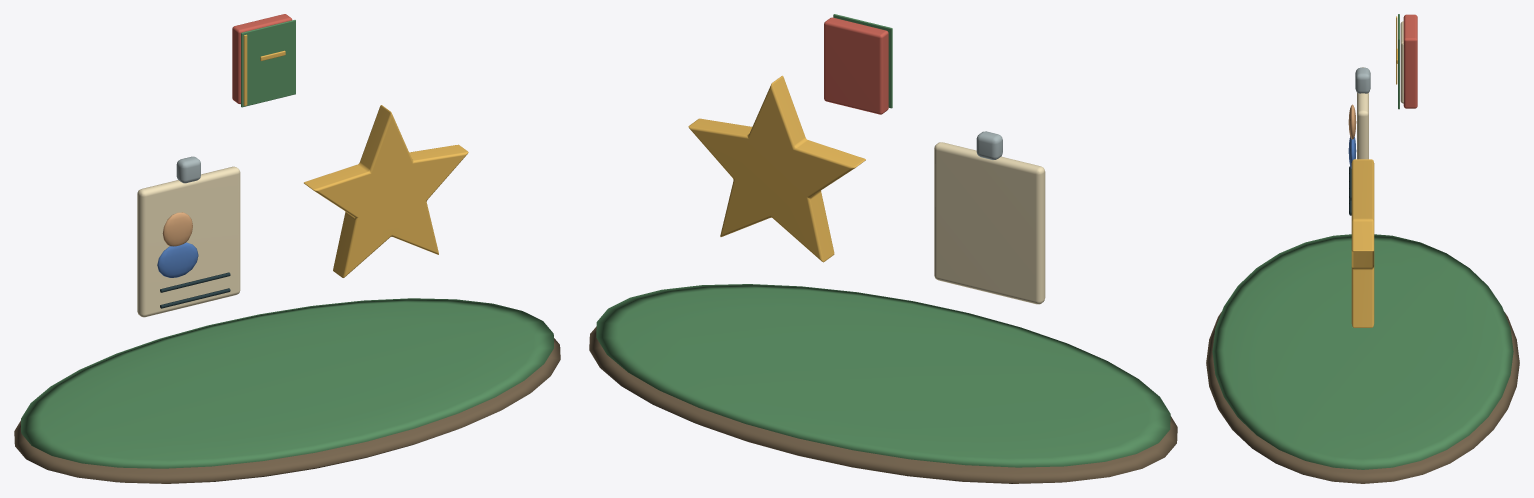
File: complete-third-host-idea.glb
The picture shows the model from 3 angles, left to right: view 1: azimuth 30°, elevation 25°; view 2: azimuth 150°, elevation 25°; view 3: azimuth 270°, elevation 25°; orthographic projection. The views are drawn at different scales.
Visible parts, largest first — view 1: complete-third-host-idea_surface_01, complete-third-host-idea_surface_07, complete-third-host-idea_surface_02, complete-third-host-idea_surface_00, complete-third-host-idea_surface_08, complete-third-host-idea_surface_05, complete-third-host-idea_surface_04, complete-third-host-idea_surface_06, complete-third-host-idea_surface_03; view 2: complete-third-host-idea_surface_01, complete-third-host-idea_surface_02, complete-third-host-idea_surface_07, complete-third-host-idea_surface_00, complete-third-host-idea_surface_08, complete-third-host-idea_surface_03; view 3: complete-third-host-idea_surface_01, complete-third-host-idea_surface_00, complete-third-host-idea_surface_07, complete-third-host-idea_surface_08, complete-third-host-idea_surface_02, complete-third-host-idea_surface_03.
Part boxes in pixels (left/top/right/bottom): complete-third-host-idea_surface_01: left=21, top=20, right=553, bottom=468; complete-third-host-idea_surface_07: left=243, top=34, right=468, bottom=277; complete-third-host-idea_surface_02: left=137, top=166, right=240, bottom=317; complete-third-host-idea_surface_00: left=14, top=338, right=560, bottom=483; complete-third-host-idea_surface_08: left=232, top=14, right=292, bottom=104; complete-third-host-idea_surface_05: left=157, top=242, right=198, bottom=277; complete-third-host-idea_surface_04: left=162, top=212, right=192, bottom=246; complete-third-host-idea_surface_06: left=160, top=272, right=230, bottom=308; complete-third-host-idea_surface_03: left=176, top=156, right=200, bottom=183; complete-third-host-idea_surface_01: left=596, top=14, right=1170, bottom=467; complete-third-host-idea_surface_02: left=934, top=142, right=1045, bottom=304; complete-third-host-idea_surface_07: left=688, top=75, right=865, bottom=262; complete-third-host-idea_surface_00: left=589, top=326, right=1177, bottom=483; complete-third-host-idea_surface_08: left=824, top=17, right=888, bottom=114; complete-third-host-idea_surface_03: left=976, top=131, right=1002, bottom=159; complete-third-host-idea_surface_01: left=1212, top=14, right=1513, bottom=469; complete-third-host-idea_surface_00: left=1206, top=312, right=1519, bottom=483; complete-third-host-idea_surface_07: left=1351, top=16, right=1397, bottom=327; complete-third-host-idea_surface_08: left=1403, top=14, right=1417, bottom=108; complete-third-host-idea_surface_02: left=1357, top=21, right=1403, bottom=159; complete-third-host-idea_surface_03: left=1355, top=67, right=1370, bottom=93.
Size of the model in its own units: 4.56 by 3.09 by 2.5.
